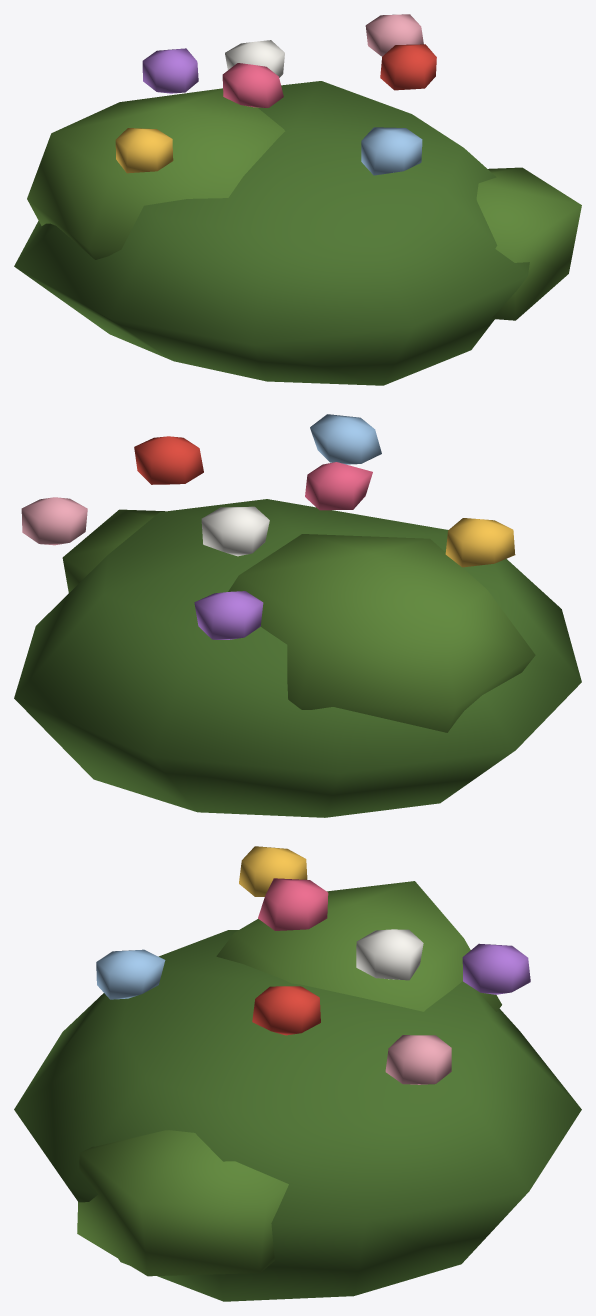
File: flowers.far.glb
The picture shows the model from 3 angles, top to bottom: view 1: azimuth 30°, elevation 25°; view 2: azimuth 150°, elevation 25°; view 3: azimuth 270°, elevation 25°; orthographic projection. The views are drawn at different scales.
Parts seen in each view (by area): view 1: flowers; view 2: flowers; view 3: flowers.
Boxes of the visible parts, x1,y1,x2,y2 form: flowers: (14,14,581,385); flowers: (14,414,581,817); flowers: (14,846,581,1301).
Size of the model in its own units: 0.5719 by 0.3439 by 0.5349.
